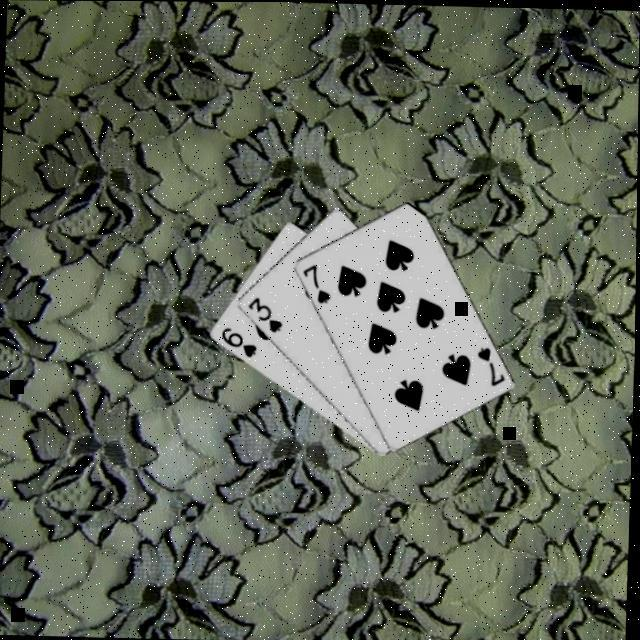3S: (244, 292, 286, 334)
6S: (218, 322, 261, 358)
7S: (299, 259, 335, 304), (474, 342, 510, 387)
